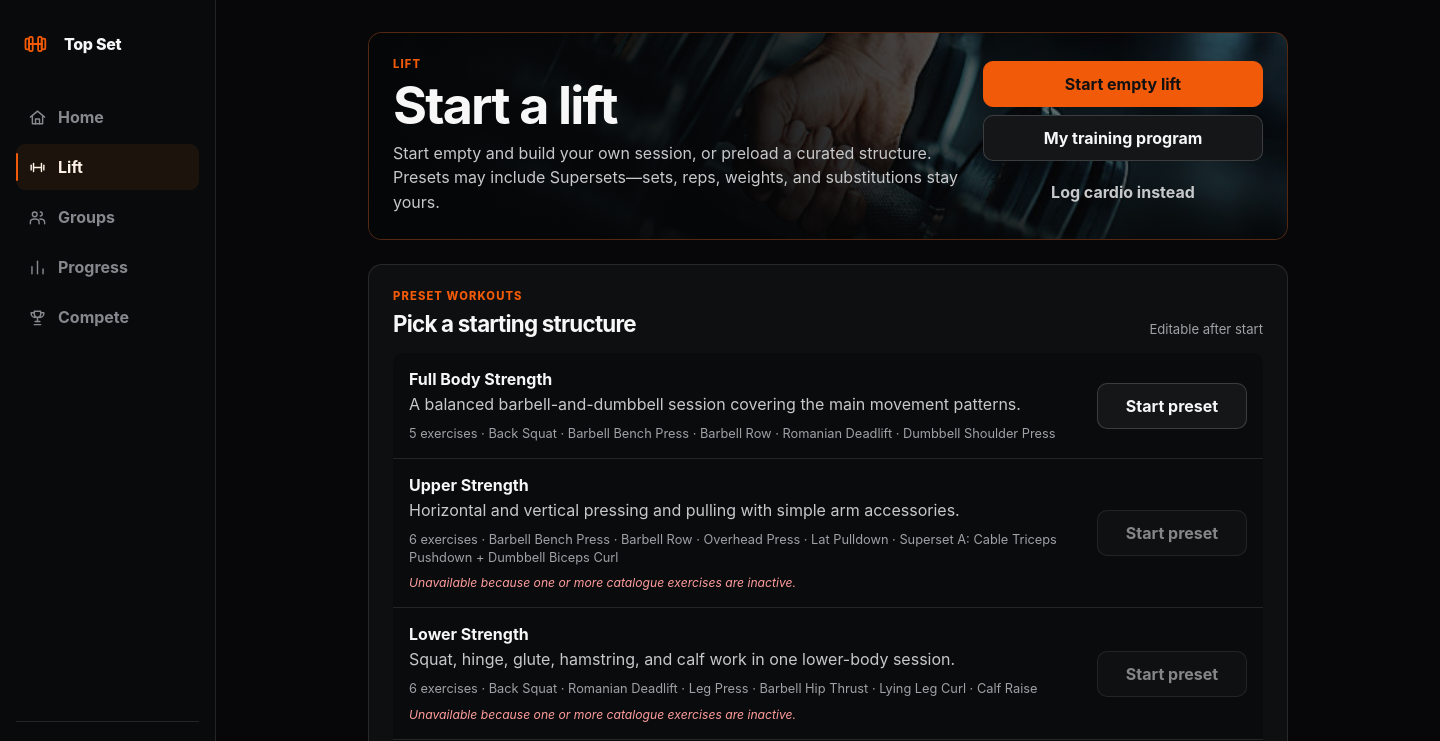
WorkoutController preset start › resolves the selected preset through the canonical catalogue and starts it atomically
Expected: the text "Full Body Strength" is shown, [409,369,552,389]
Click the button "Start preset" in the row of "Full Body Strength": (1172, 406) [1097,383,1247,429]
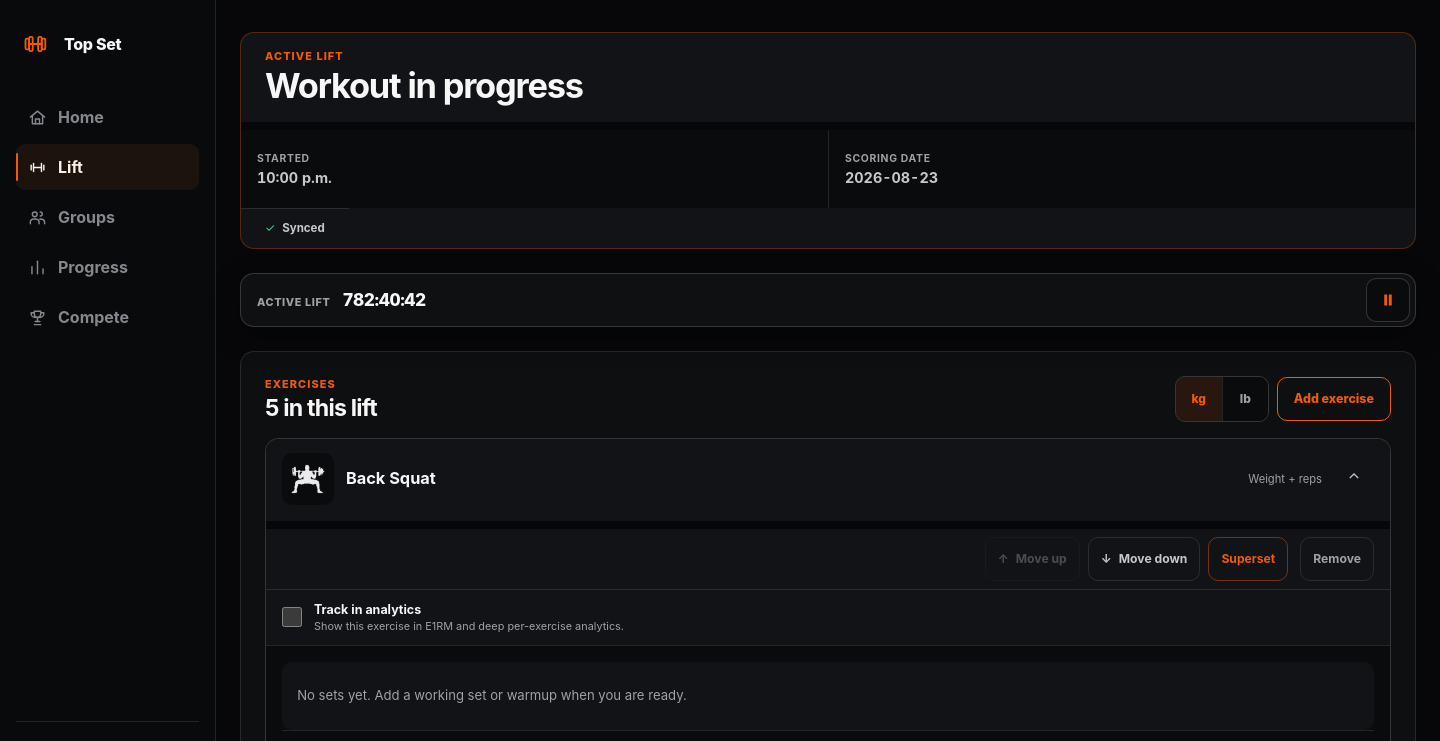
Now the heading "Workout in progress" is shown, box [265,67,583,106]
